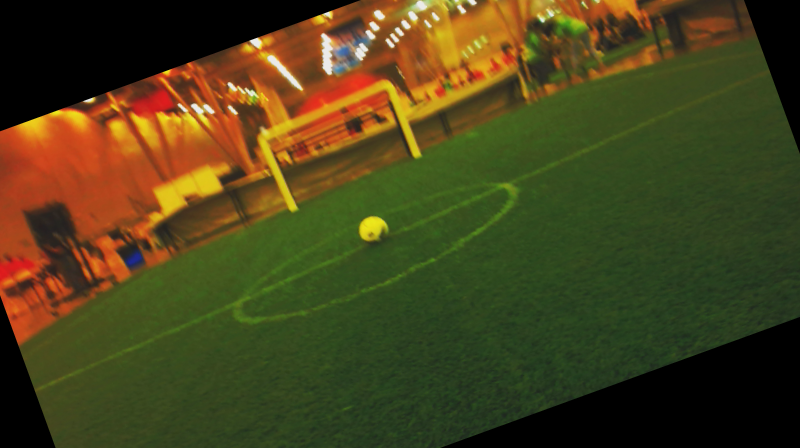post: (283, 196, 306, 219), (406, 143, 428, 165)
